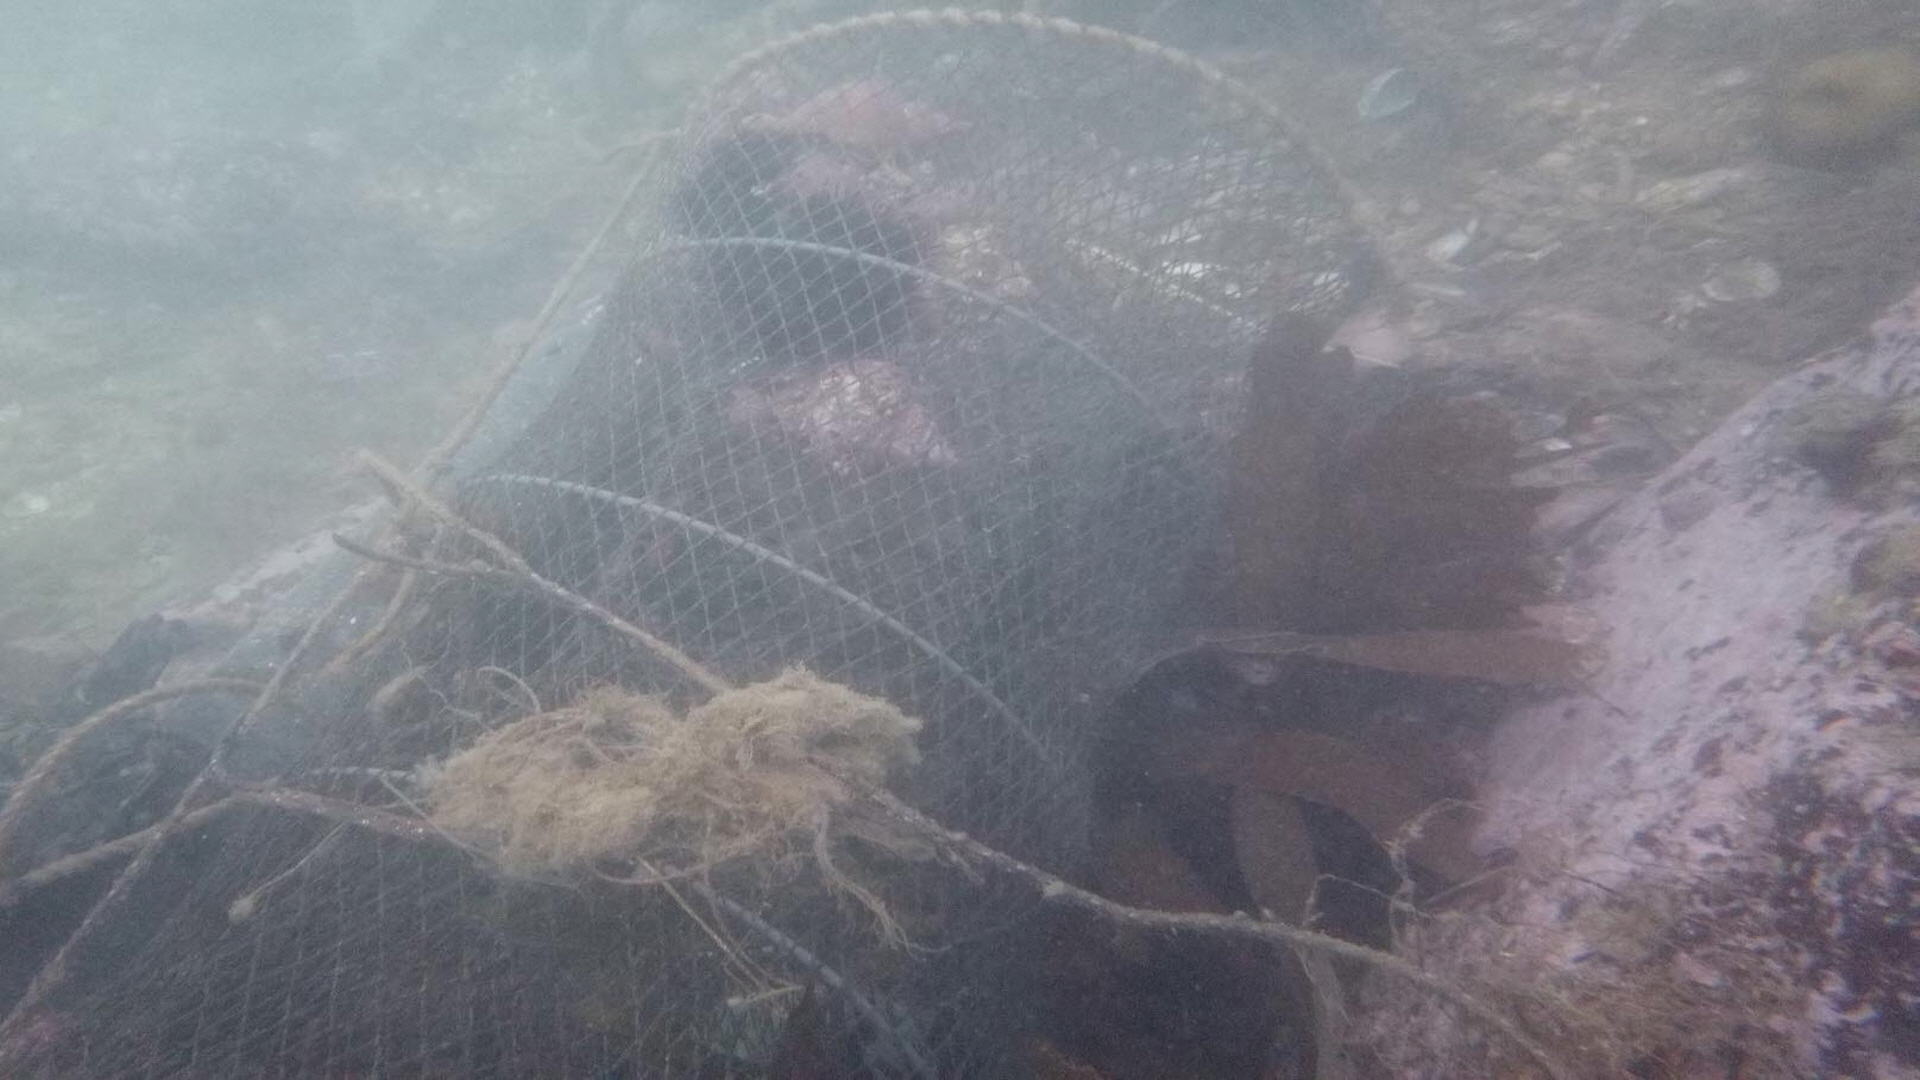bundle of ropes: (0, 675, 324, 891)
rope: (351, 444, 1556, 1080)
spring fish trap: (0, 8, 1383, 1080)
